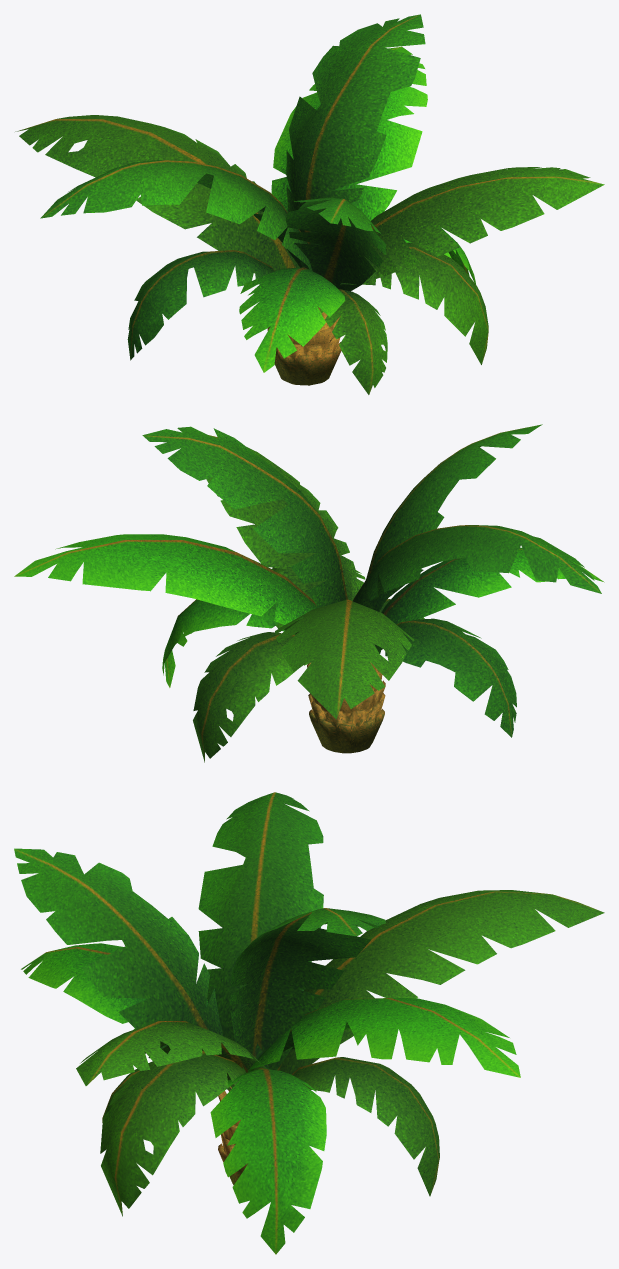
Rendered from tree-palm-sago.fbx.
The picture shows the model from 3 angles, top to bottom: view 1: azimuth 30°, elevation 25°; view 2: azimuth 150°, elevation 25°; view 3: azimuth 270°, elevation 25°; orthographic projection. The views are drawn at different scales.
Visible parts, largest first — view 1: Jungle_Palm_Stubby_A; view 2: Jungle_Palm_Stubby_A; view 3: Jungle_Palm_Stubby_A.
Part boxes in pixels (left/top/right/bottom): Jungle_Palm_Stubby_A: left=15, top=14, right=604, bottom=394; Jungle_Palm_Stubby_A: left=14, top=424, right=604, bottom=762; Jungle_Palm_Stubby_A: left=14, top=792, right=604, bottom=1254.
Bounding box in the file's own units: 408 × 237 × 381.
1 material, 1 textured.
